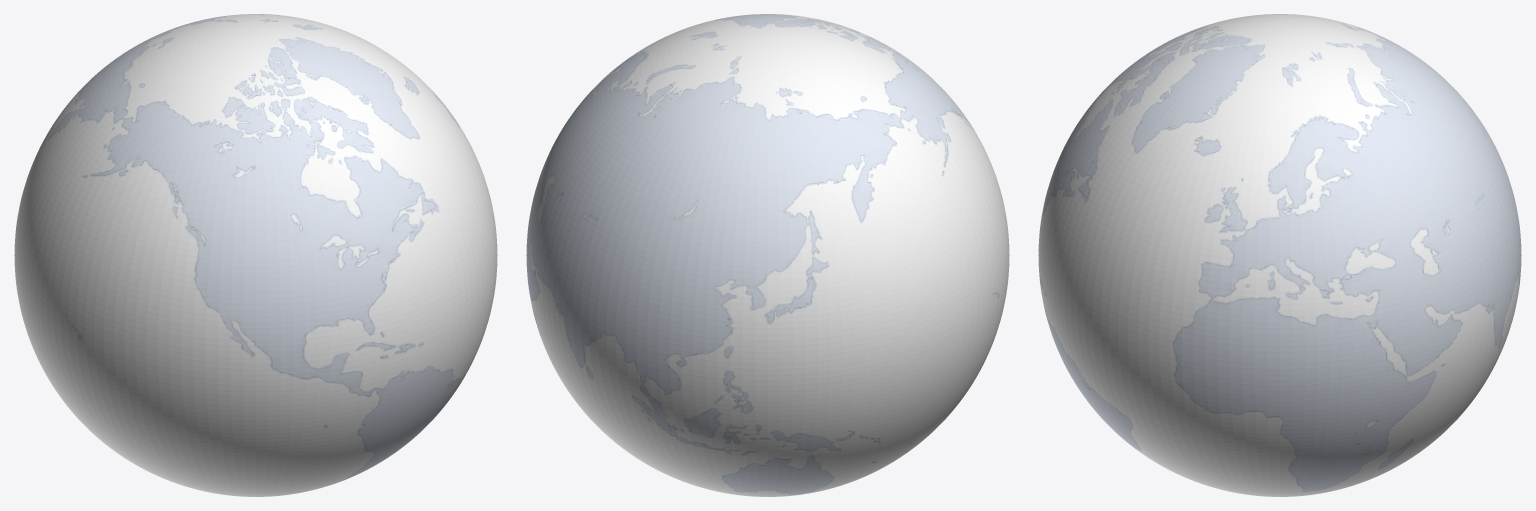
The model's file is mundo1AnaPaola.fbx.
3 views of the same model, side by side, from view 1: azimuth 30°, elevation 25°; view 2: azimuth 150°, elevation 25°; view 3: azimuth 270°, elevation 25° (orthographic).
Visible parts, largest first — view 1: Sphere; view 2: Sphere; view 3: Sphere.
Part boxes in pixels (x1,y1,x2,y2): Sphere: [14, 14, 497, 496]; Sphere: [526, 14, 1009, 496]; Sphere: [1038, 14, 1521, 496].
Size of the model in its own units: 4000 by 4000 by 4000.
Materials: 1 (1 with a texture image).
